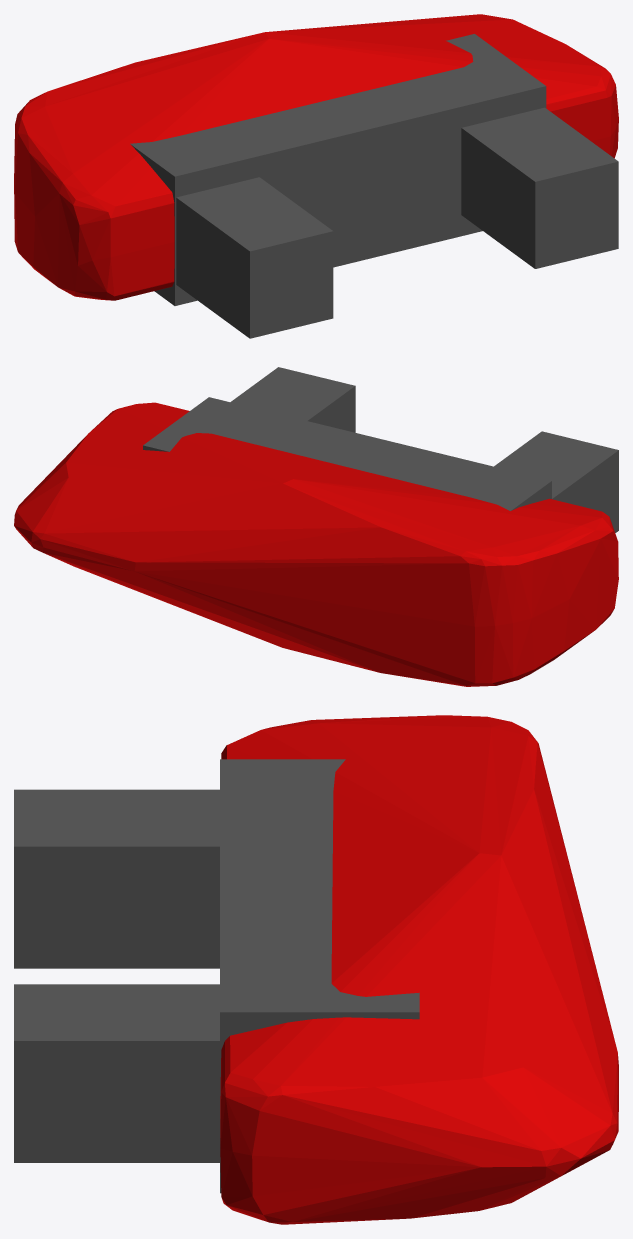
The model's file is gripper-2.obj.
3 renders of one model, top to bottom at view 1: azimuth 30°, elevation 25°; view 2: azimuth 150°, elevation 25°; view 3: azimuth 270°, elevation 25°, orthographic. The views are drawn at different scales.
Size of the model in its own units: 0.2044 by 0.0633 by 0.1394.
